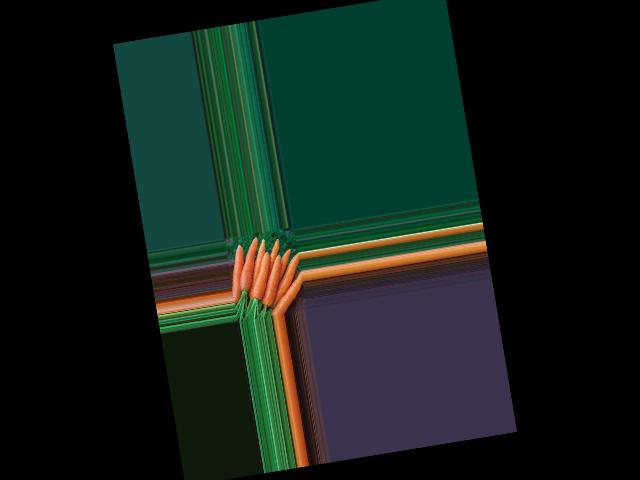carrot: (261, 264, 308, 315)
